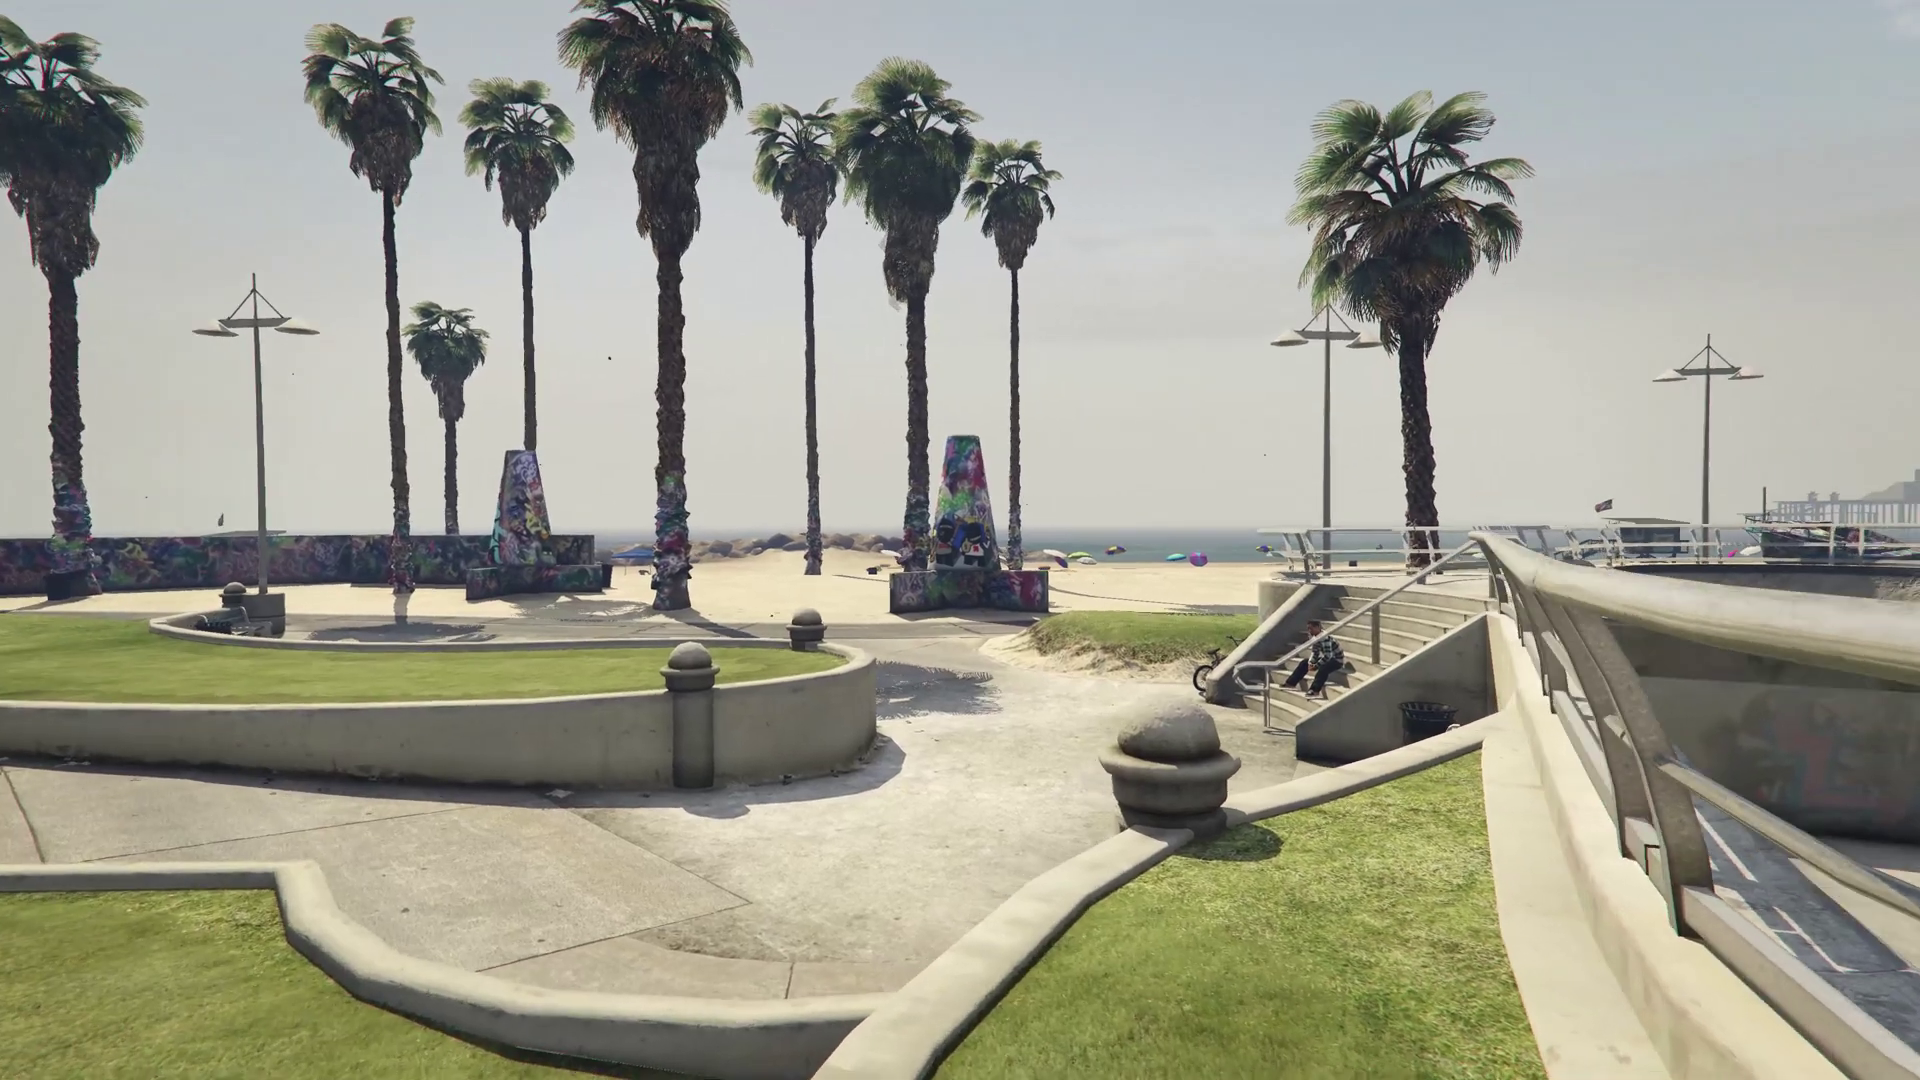person: (1276, 620, 1346, 697)
